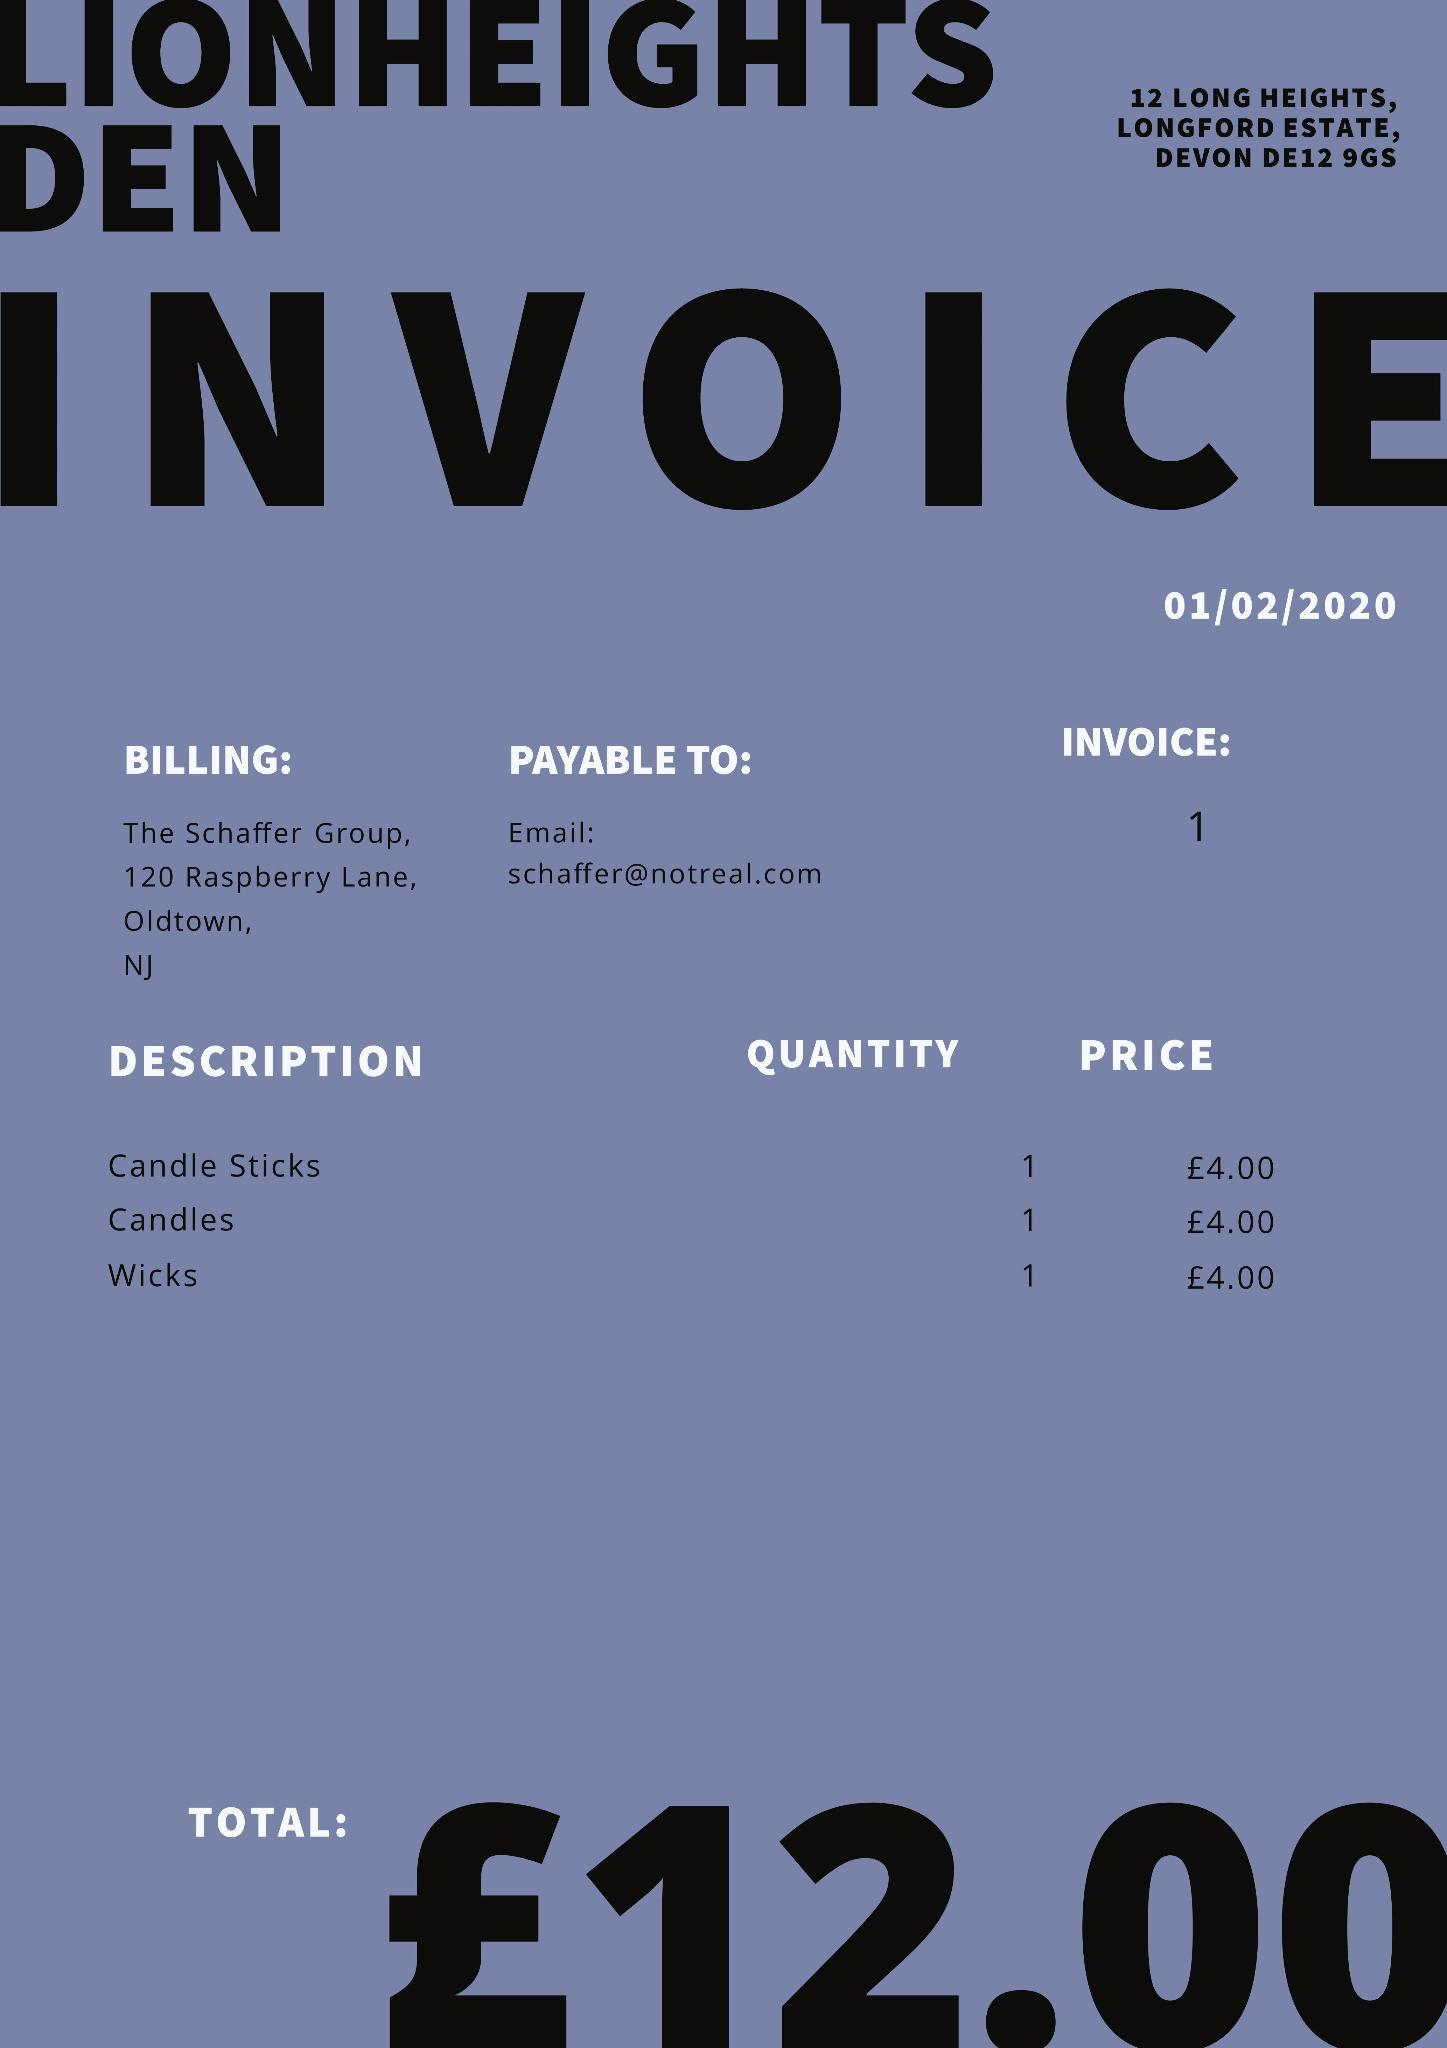ROI: (77, 1011, 1308, 1364), (113, 1730, 1447, 2046), (5, 257, 1447, 548), (2, 2, 1034, 238), (75, 703, 448, 988), (489, 706, 868, 938), (1115, 45, 1433, 211), (1045, 690, 1286, 882), (1132, 578, 1433, 654)
